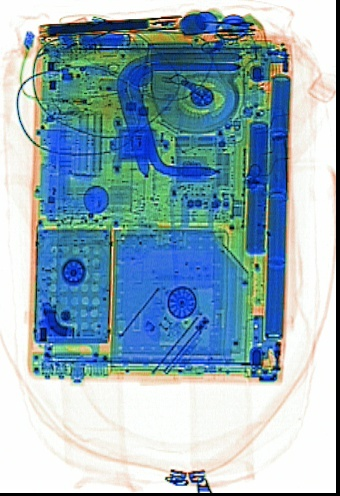powerbank: (36, 12, 184, 39)
